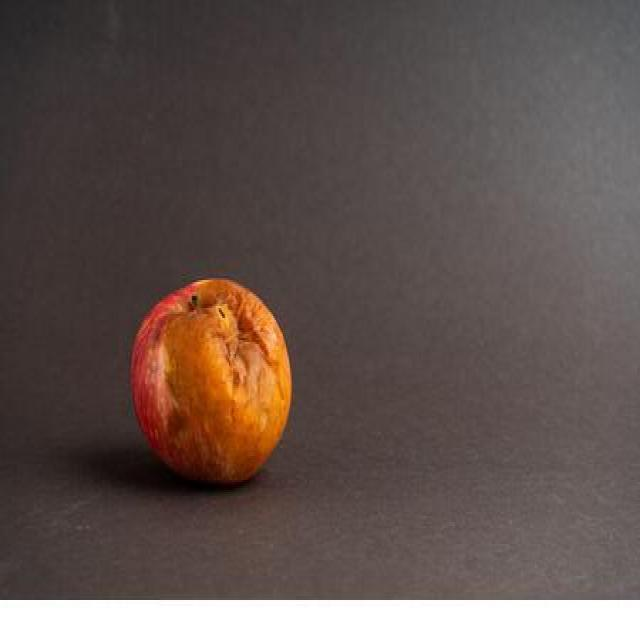Apple: (125, 275, 302, 492)
